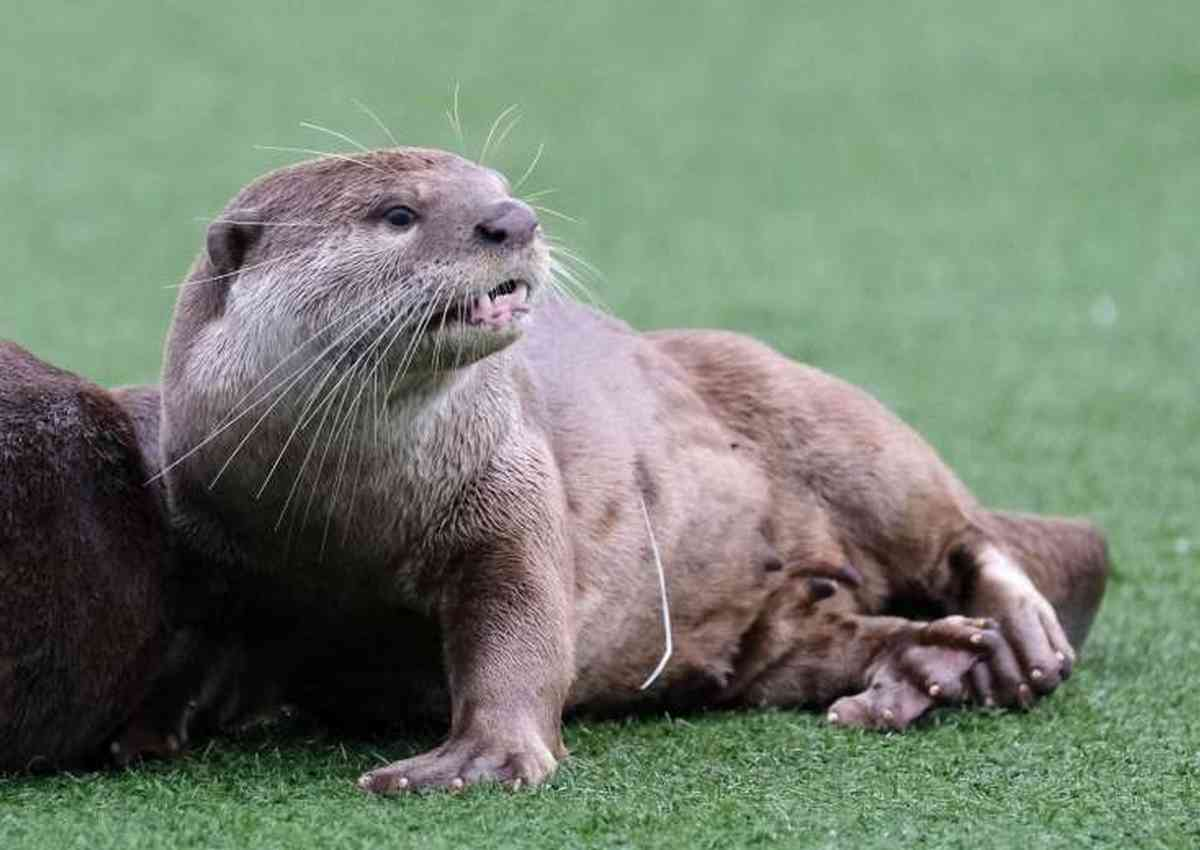otter: (148, 129, 1104, 806)
